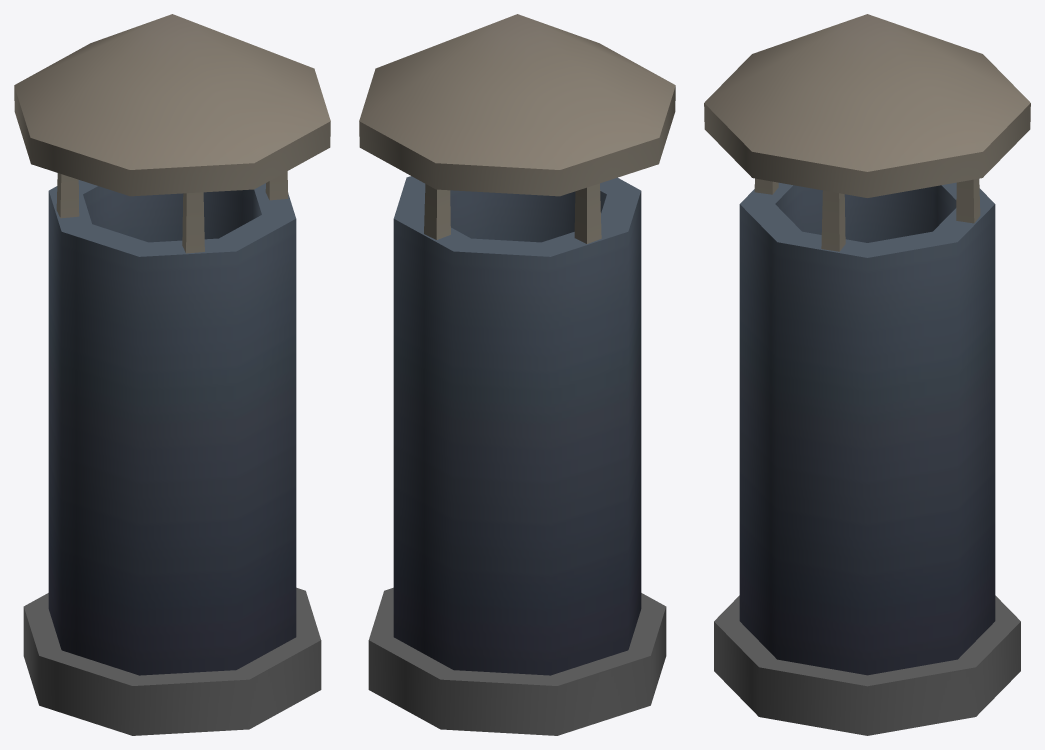
File: Chimney_1_C_1.fbx
3 renders of one model, left to right at view 1: azimuth 30°, elevation 25°; view 2: azimuth 150°, elevation 25°; view 3: azimuth 270°, elevation 25°, orthographic.
Parts seen in each view (by area): view 1: Chimney_1_C_1; view 2: Chimney_1_C_1; view 3: Chimney_1_C_1.
Part boxes in pixels (x1,y1,x2,y2): Chimney_1_C_1: (14, 14, 330, 735); Chimney_1_C_1: (359, 14, 675, 735); Chimney_1_C_1: (704, 14, 1030, 735).
Size of the model in its own units: 65.76 by 146 by 65.76.
